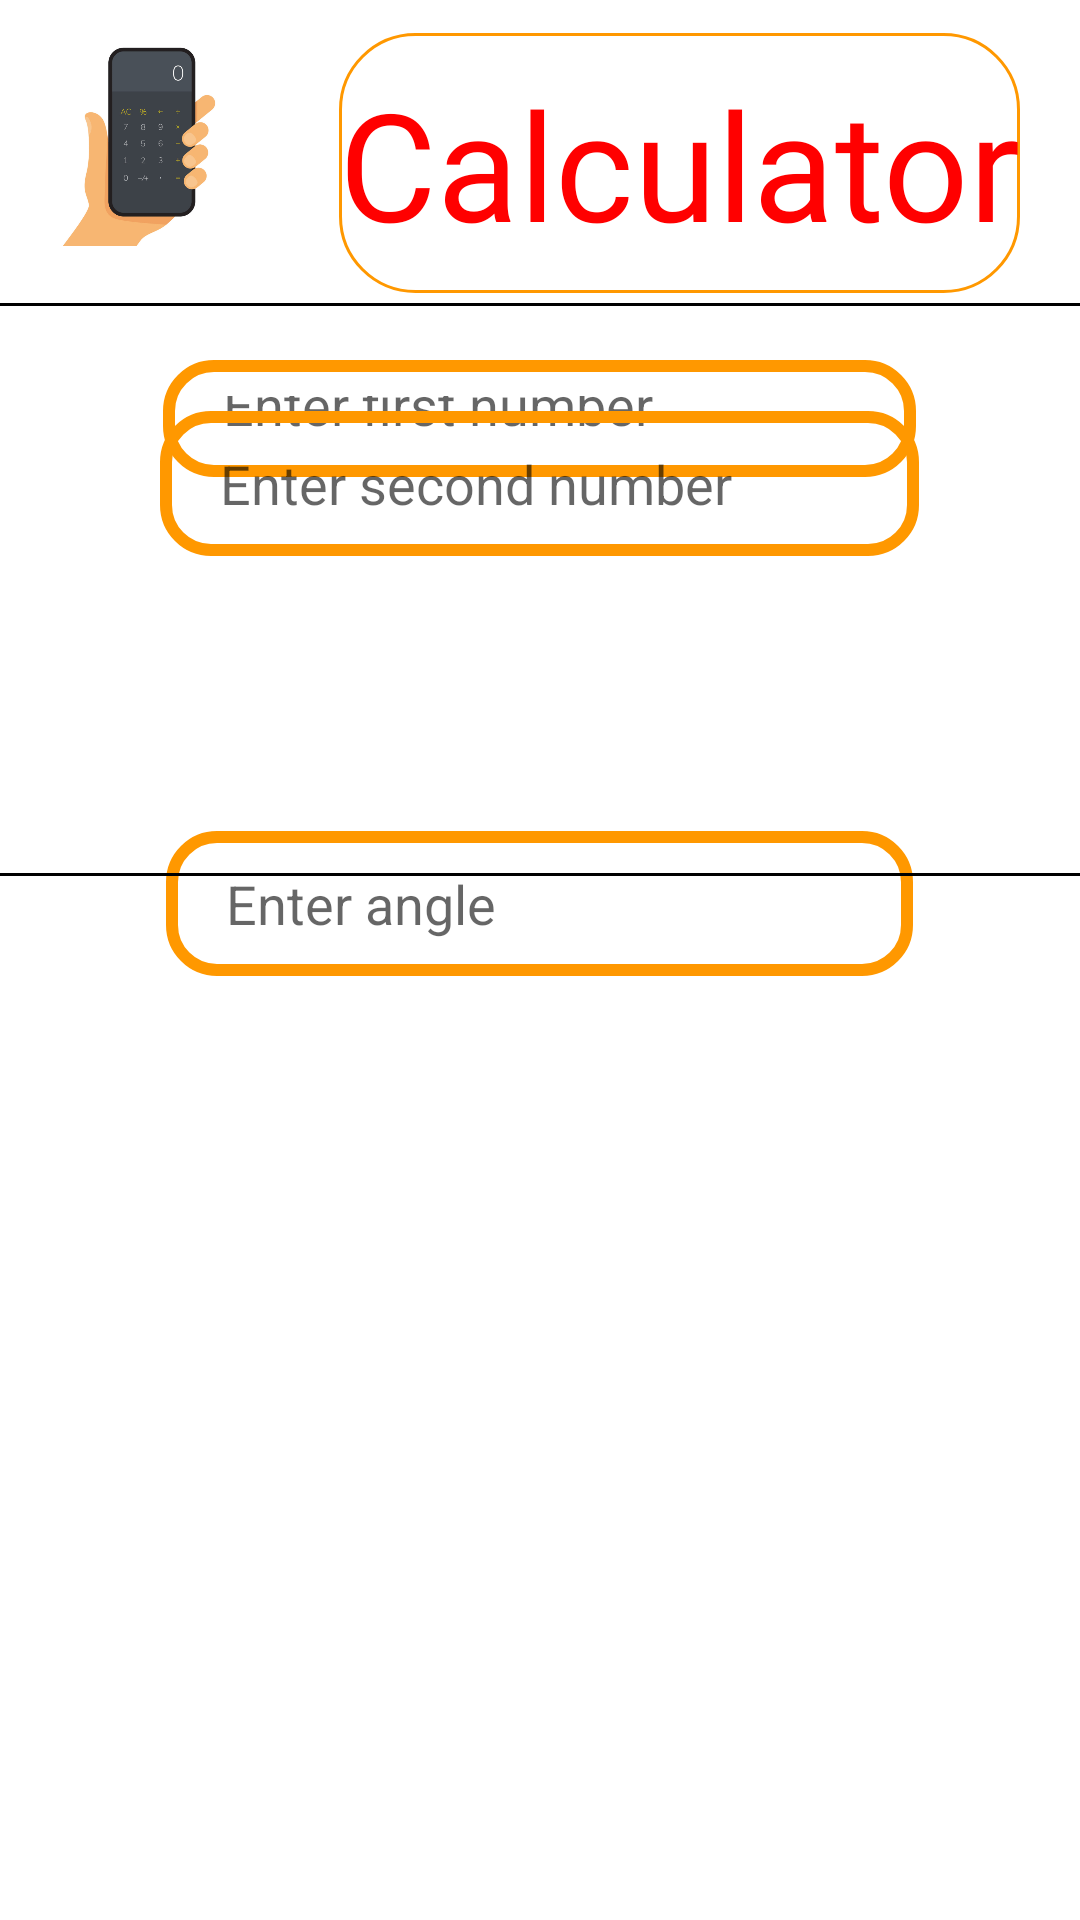

Icon bounding boxes for this 1080×1920 phone screenshot, format (x1, y1, x2, y2):
cal: (63, 47, 215, 246)
